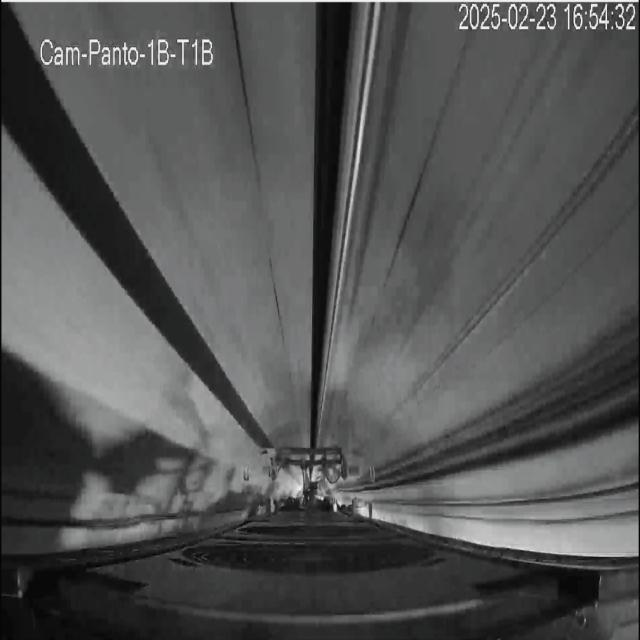Camera Stamp: (32, 26, 221, 73)
Date Stamp: (459, 3, 636, 33)
No - Spark: (260, 347, 326, 467), (264, 451, 344, 510)
